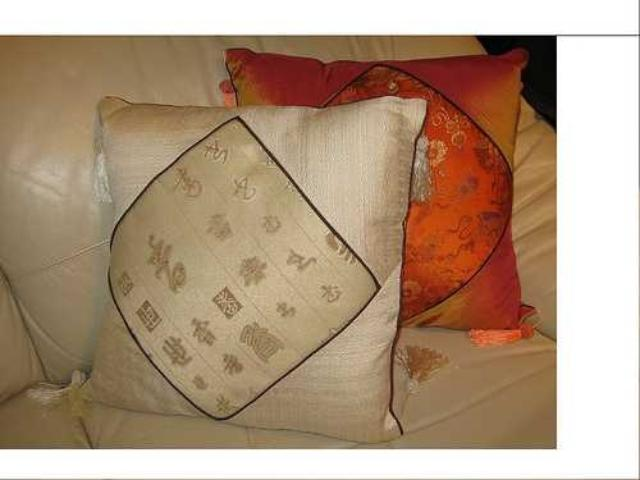pillow: (88, 92, 428, 444), (222, 44, 538, 334)
